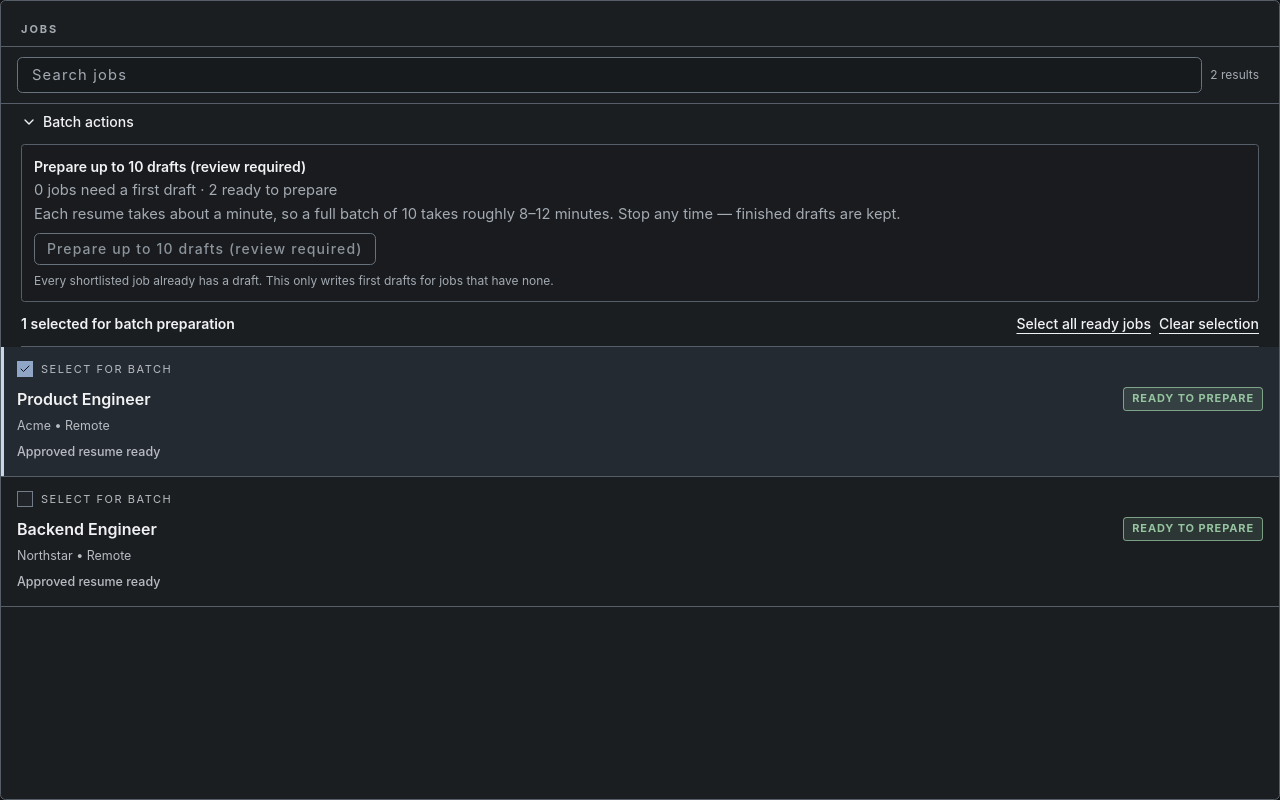
Scenario: ReviewQueueListPanel › keeps queue selection while searching and exposes a sticky batch summary
Check: the text "1 selected for batch preparation" is shown, box [21, 314, 235, 334]
Step 1. Type "Northstar" into the search field named "Find a shortlisted job" → [610, 74], box [17, 56, 1202, 92]
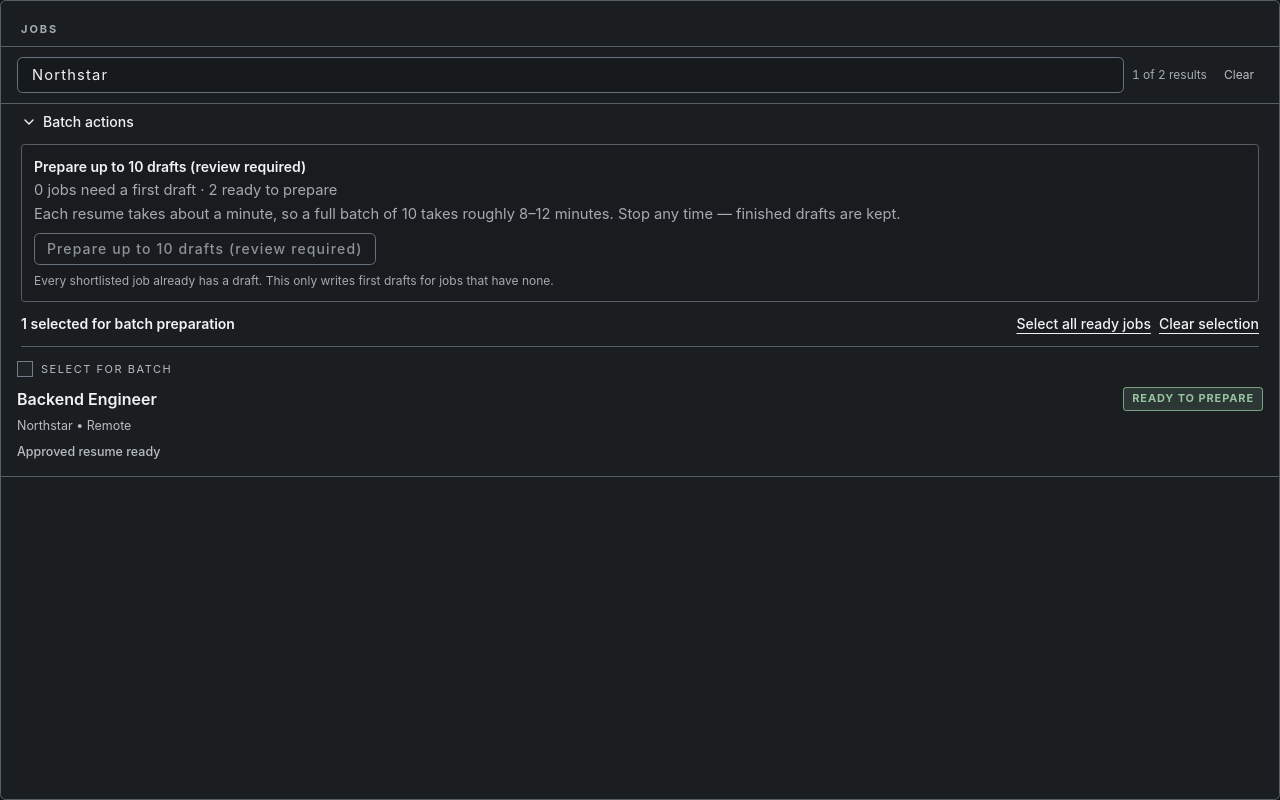
Check: the text "Backend Engineer" is shown, box [17, 387, 157, 411]
Check: the text "1 of 2 results" is shown, box [1132, 66, 1207, 82]
Check: the button "Product Engineer" is gone
